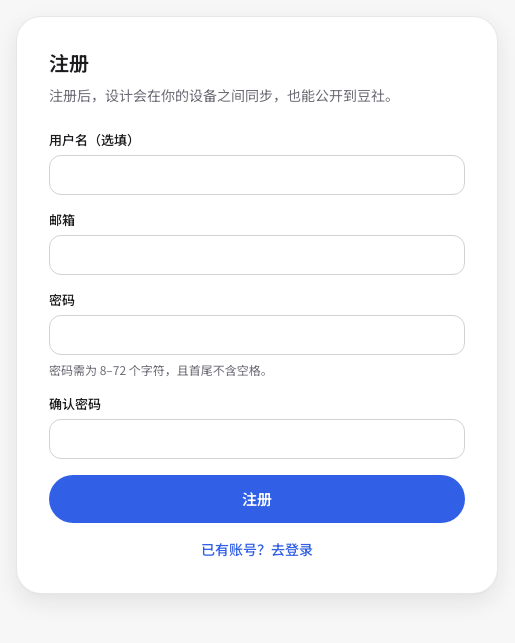
it: register 页 › 密码过短本地拦截
This screenshot has width=515, height=643.
Step 1. Type "a@b.com" into the field labelled "邮箱" → (257, 255), box top-left (49, 235), bottom-right (465, 275)
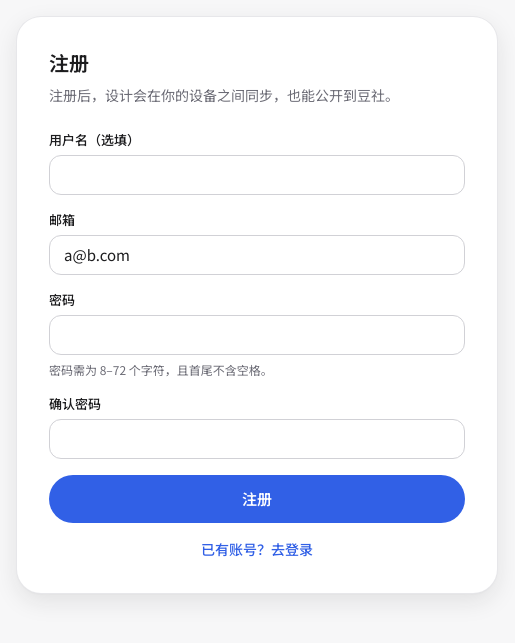
Step 2. Type "short" into the password field labelled "密码" → (257, 335), box top-left (49, 315), bottom-right (465, 355)
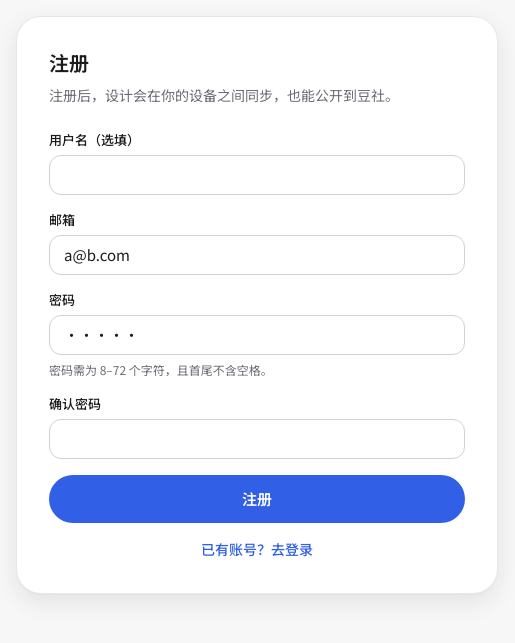
Step 3. Type "short" into the password field labelled "确认密码" → (257, 439), box top-left (49, 419), bottom-right (465, 459)
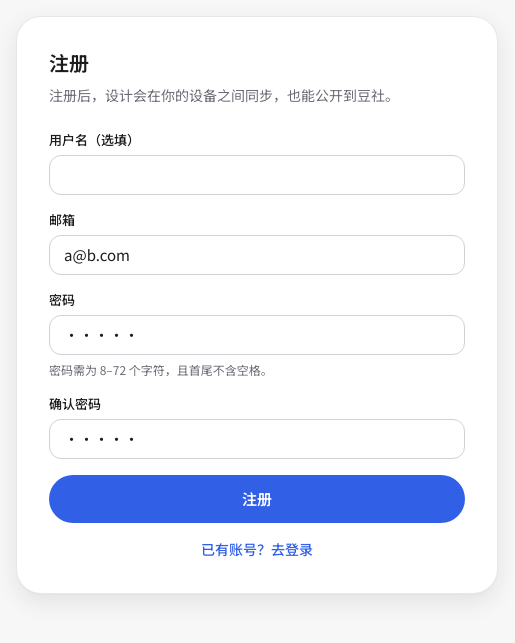
Step 4. Click the button "注册" → (257, 499), box top-left (49, 475), bottom-right (465, 523)
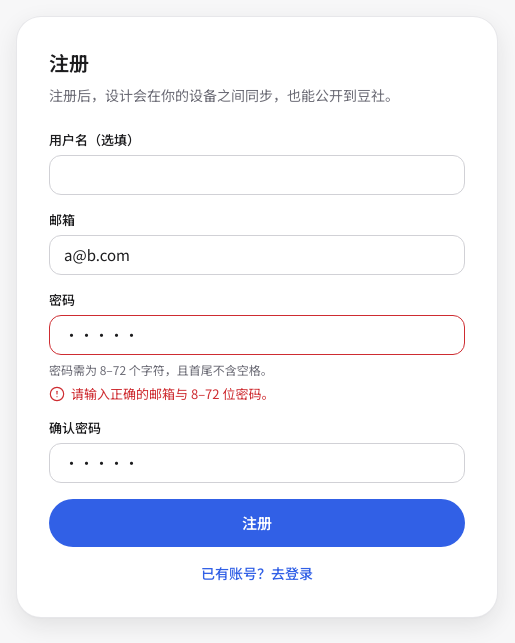
Result: the message "请输入正确的邮箱与 8–72 位密码。" is shown at top-left (49, 386), bottom-right (274, 402)
